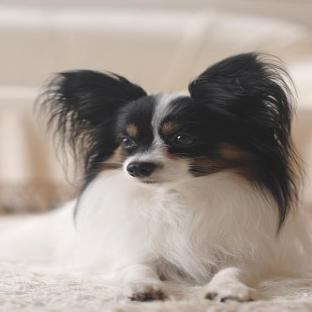Animal: (5, 52, 311, 301)
